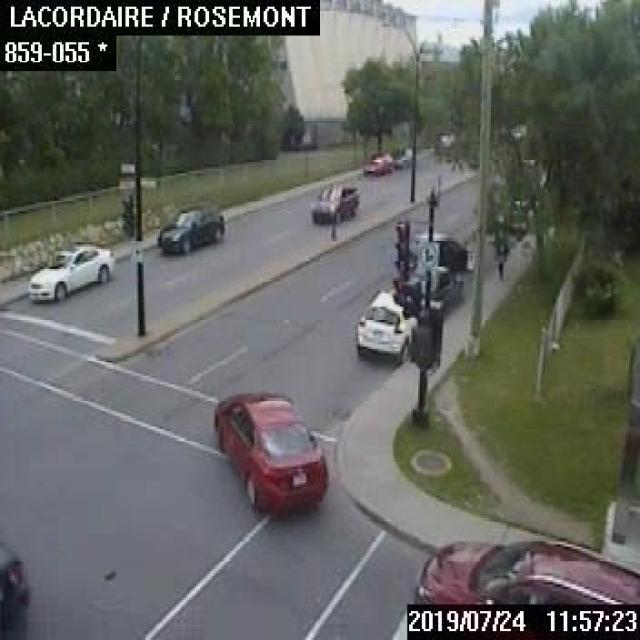pedestrian: (494, 240, 504, 278)
vehicle: (414, 537, 638, 604), (211, 391, 325, 514), (25, 244, 113, 299), (355, 289, 416, 362), (0, 538, 31, 638), (156, 206, 223, 252), (406, 267, 462, 311), (414, 232, 472, 269), (310, 182, 358, 220), (362, 149, 392, 175), (391, 146, 410, 166)
